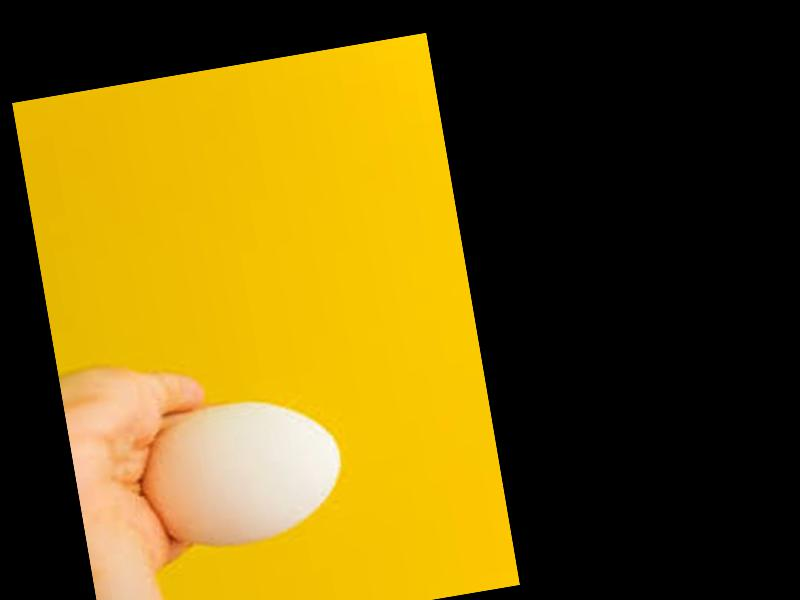Eggs: (133, 387, 352, 553)
